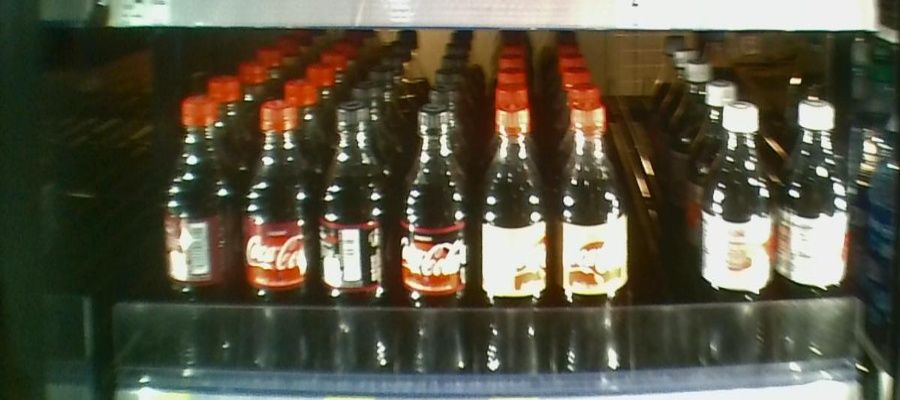bottle: (237, 97, 312, 400), (319, 98, 393, 400), (696, 102, 775, 384), (781, 101, 858, 386), (162, 95, 233, 389), (400, 99, 469, 400), (552, 95, 619, 394), (483, 95, 542, 399)
